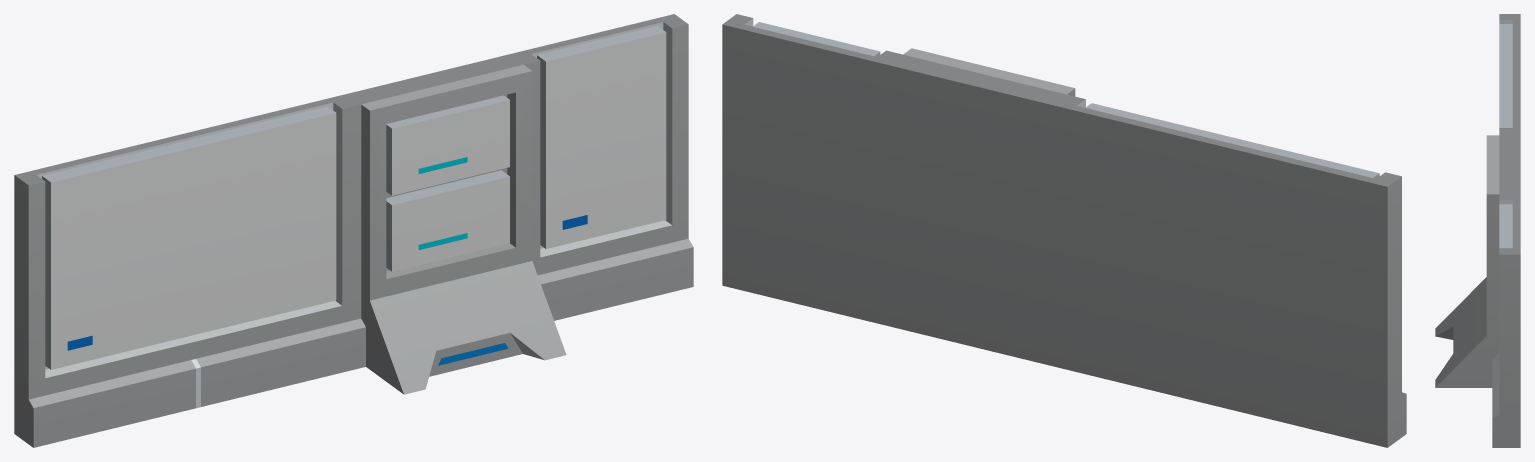
File: Wall_type_A_033.fbx
The picture shows the model from 3 angles, left to right: view 1: azimuth 30°, elevation 25°; view 2: azimuth 150°, elevation 25°; view 3: azimuth 270°, elevation 25°; orthographic projection. The views are drawn at different scales.
Visible parts, largest first — view 1: Wall_type_A_033; view 2: Wall_type_A_033; view 3: Wall_type_A_033.
Part boxes in pixels (<box>): Wall_type_A_033: <box>14,14,693,447</box>; Wall_type_A_033: <box>722,14,1406,447</box>; Wall_type_A_033: <box>1435,14,1520,447</box>.
Size of the model in its own units: 400 by 60 by 150.
